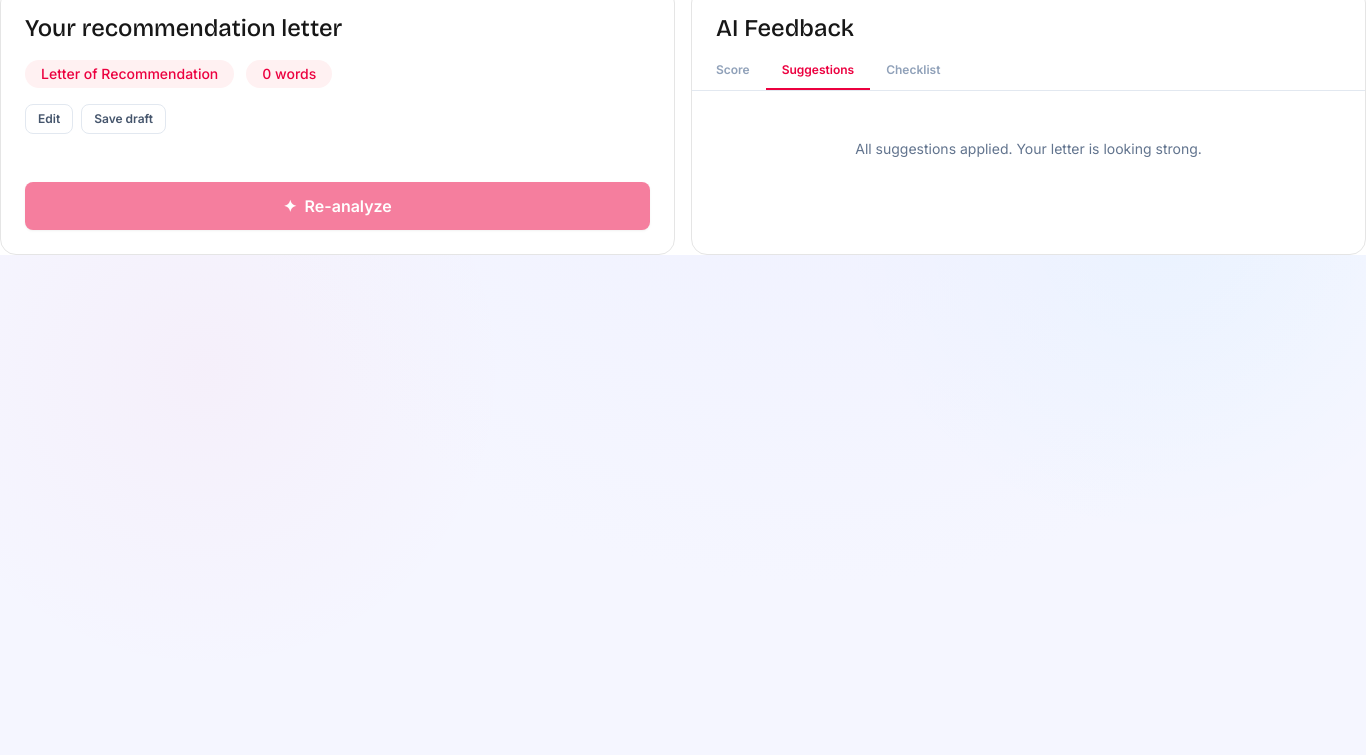
Test: StatementWriter VinUni routing › renders the complete F7.3 quality review
Click the button "score": (733, 71) [700, 52, 766, 90]
(page scrolled)
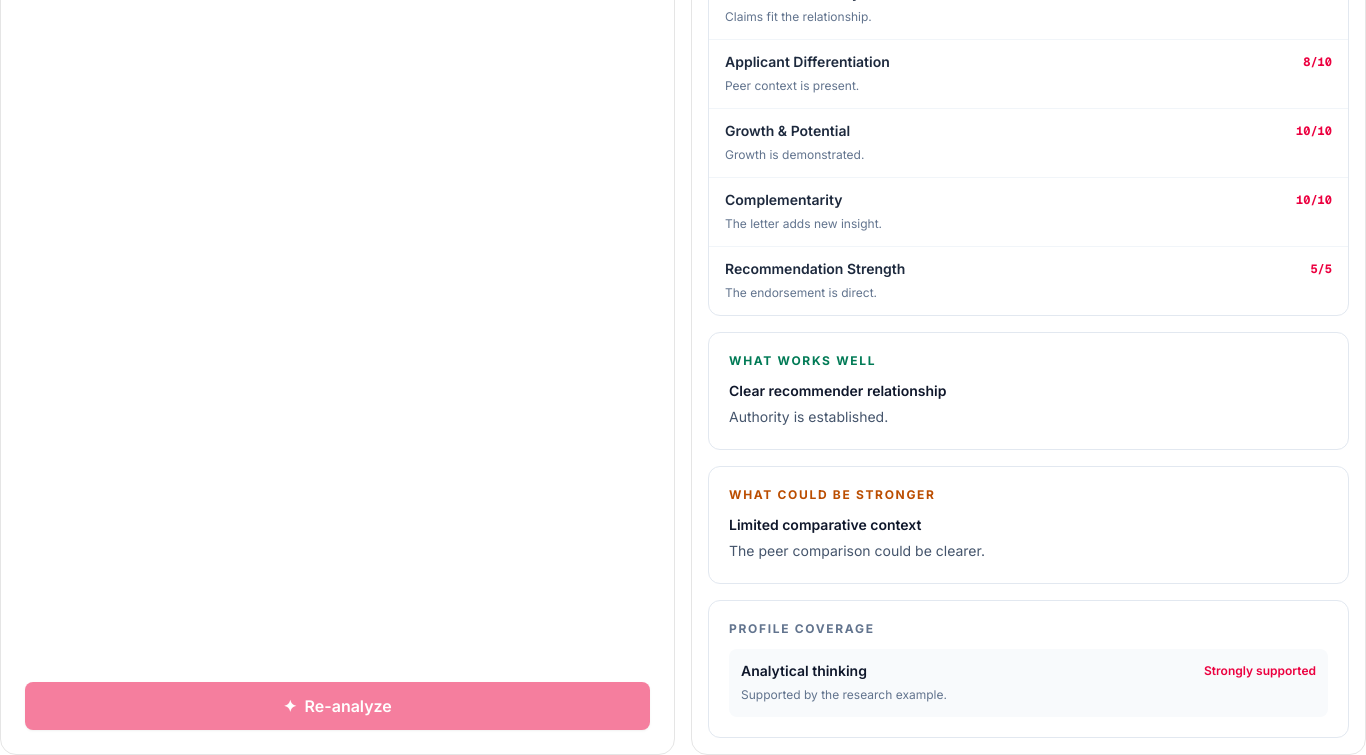
Expected: the text "Recommendation Strength" is shown, [725, 259, 905, 279]
Expected: the text "WHAT WORKS WELL" is shown, [729, 353, 876, 368]
Expected: the heading "Clear recommender relationship" is shown, [729, 382, 946, 399]
